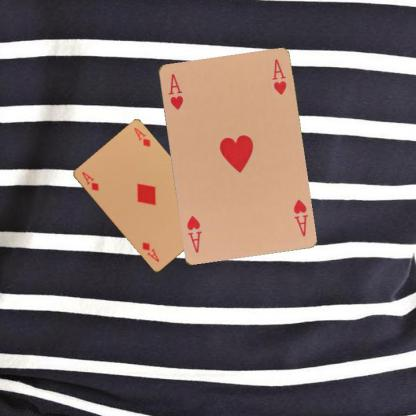Ad: (79, 169, 100, 192)
Ah: (291, 197, 309, 238), (166, 71, 184, 111)
